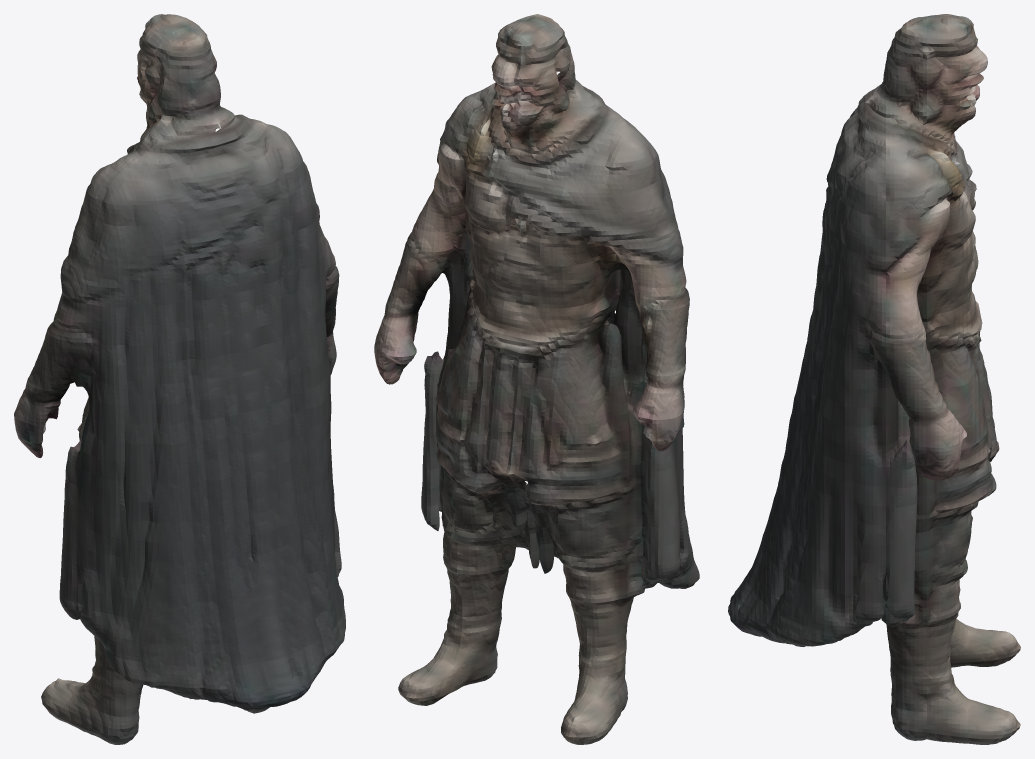
File: SOVEREIGN-M-404GEN-TEST-V1.glb
The picture shows the model from 3 angles, left to right: view 1: azimuth 30°, elevation 25°; view 2: azimuth 150°, elevation 25°; view 3: azimuth 270°, elevation 25°; orthographic projection.
Parts seen in each view (by area): view 1: world; view 2: world; view 3: world.
Boxes of the visible parts, left/top/right/bottom form: world: left=14, top=14, right=345, bottom=744; world: left=374, top=14, right=699, bottom=744; world: left=728, top=14, right=1020, bottom=744.
Bounding box in the file's own units: 0.4701 × 1.01 × 0.3892.
